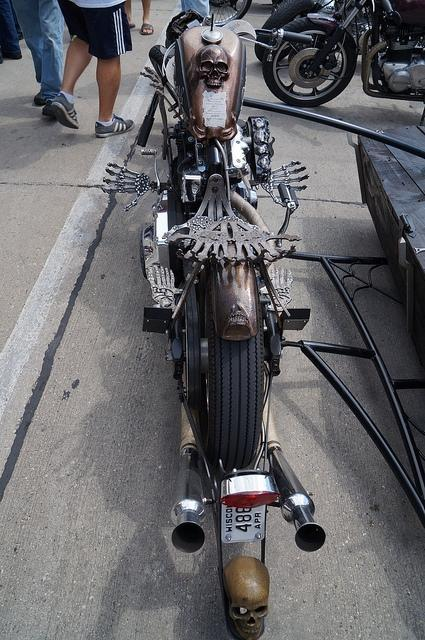motorcycle: (102, 12, 328, 624), (264, 0, 425, 107), (258, 1, 360, 30)
